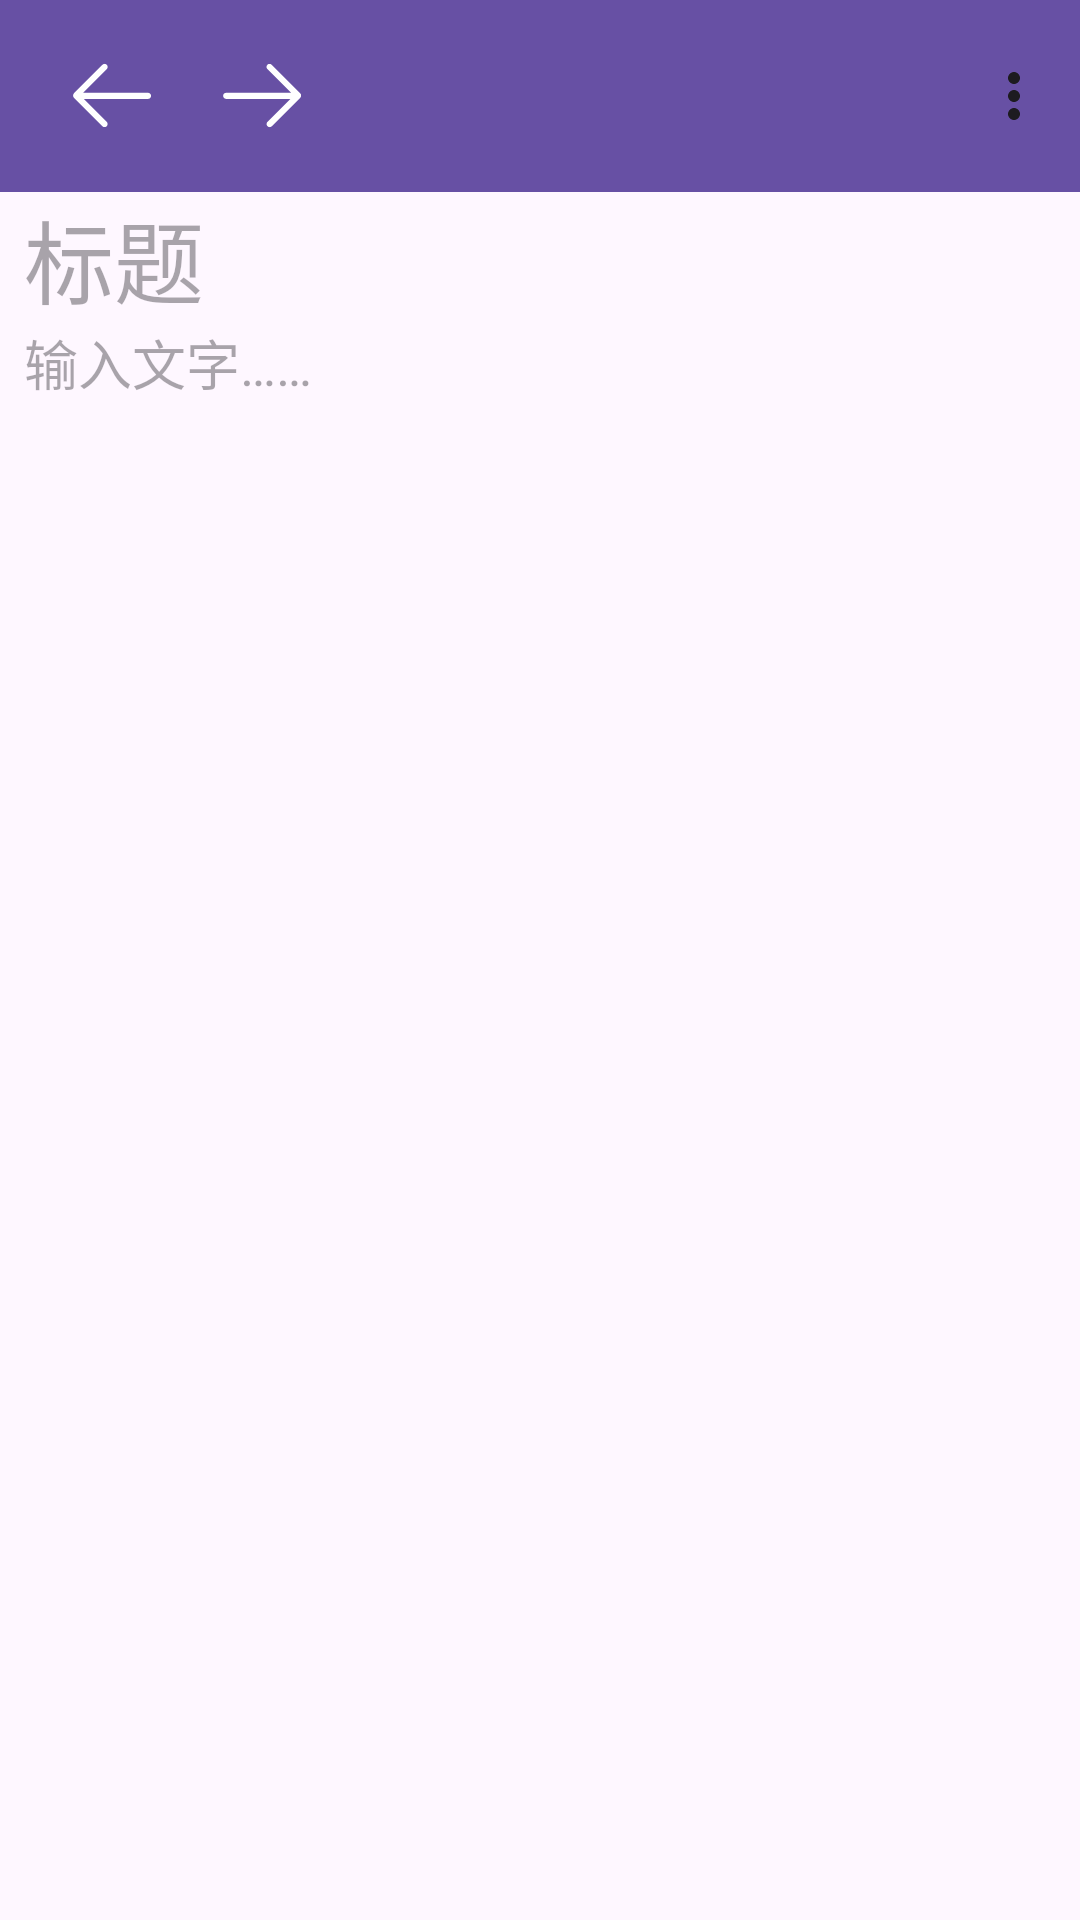

Where icons sit on this 1080 x 1920 app screen, as (x1, y1, x2, y2):
redo: (223, 64, 301, 127)
undo: (73, 64, 151, 127)
